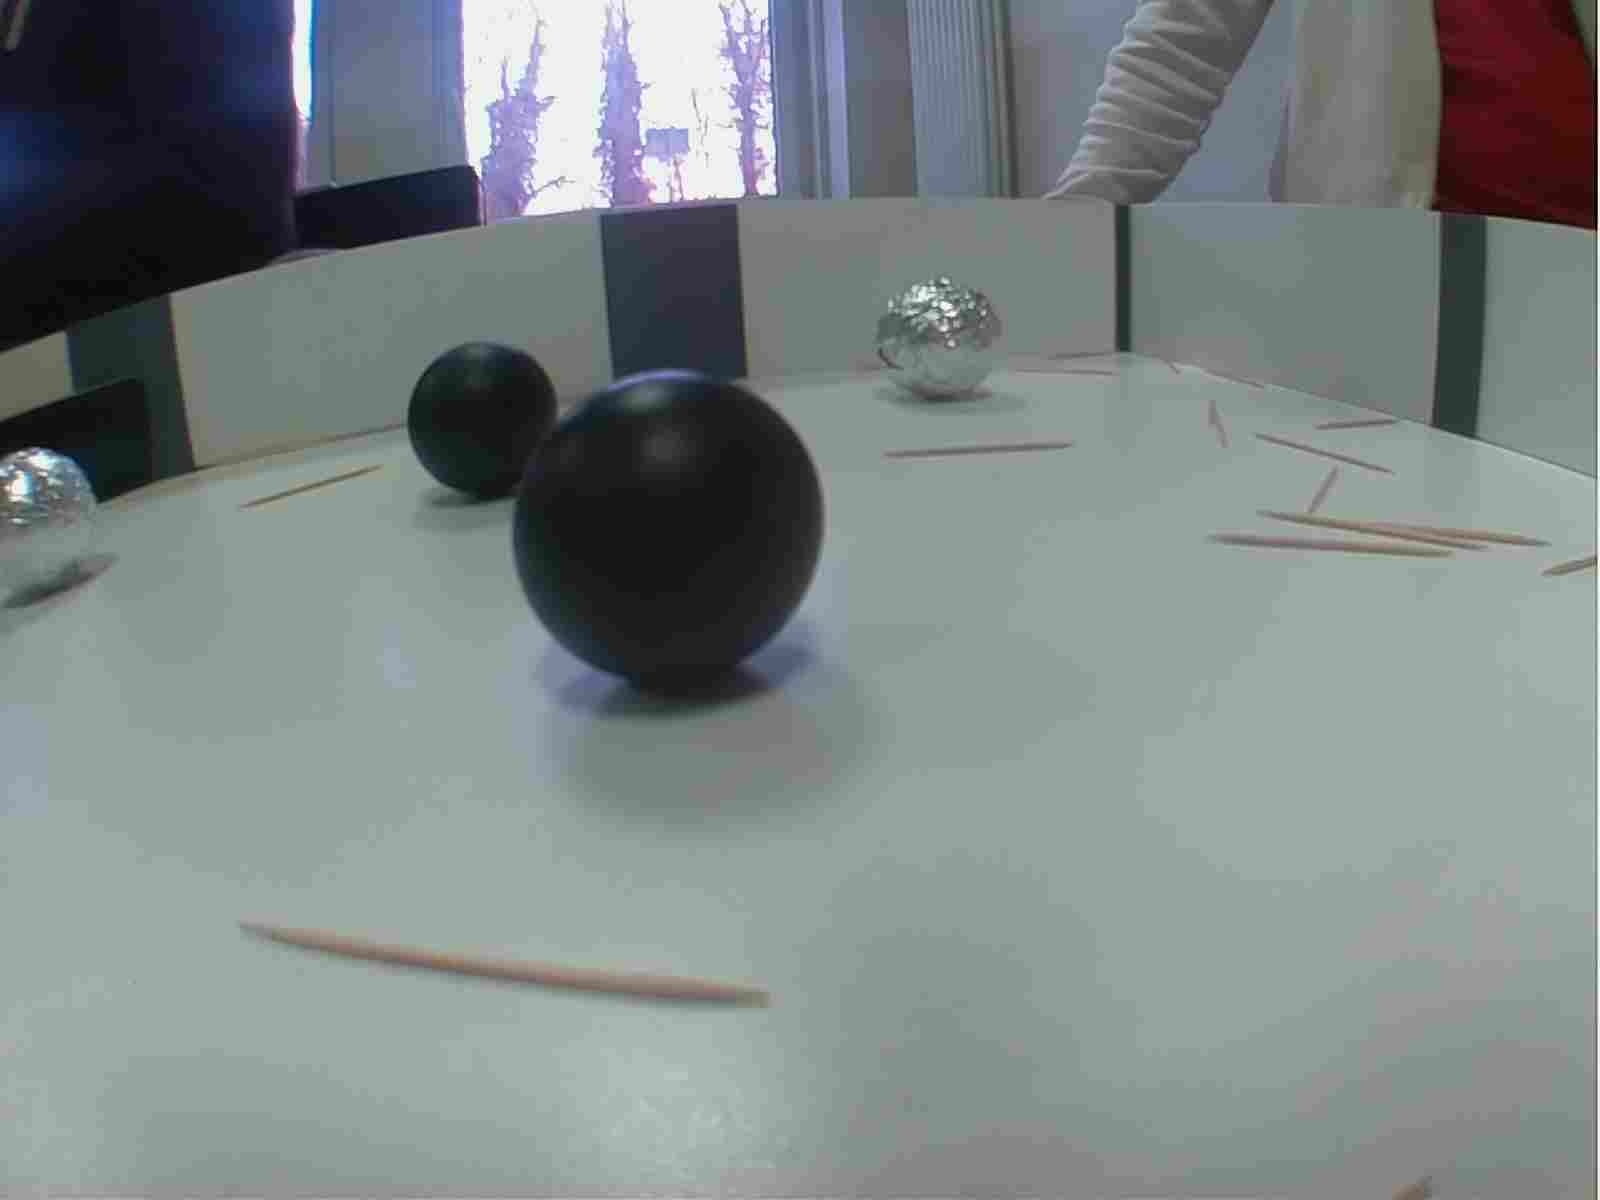bianca: (876, 272, 1012, 407), (1, 436, 94, 606)
nera: (508, 369, 844, 713), (408, 339, 569, 500)
